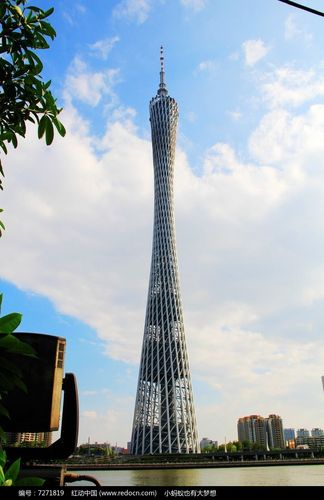buildings: (122, 116, 206, 466), (134, 58, 196, 266)
